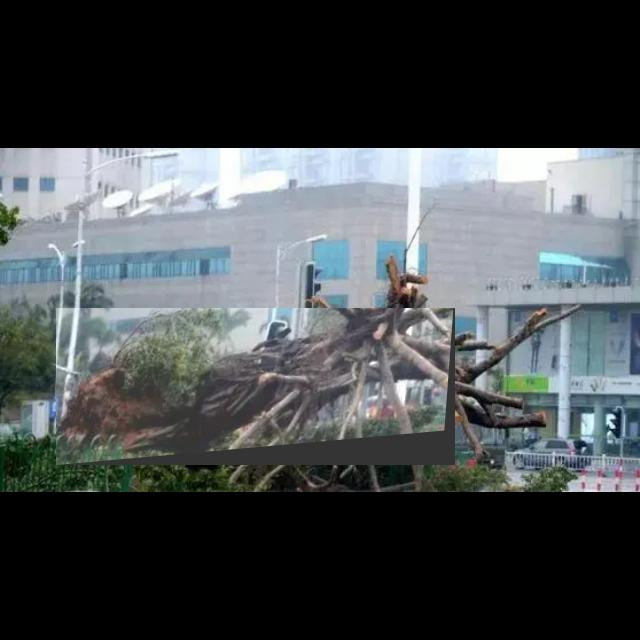Fallen Tree: (56, 308, 456, 466)
